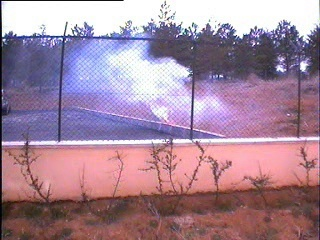smoke: (70, 37, 221, 126)
